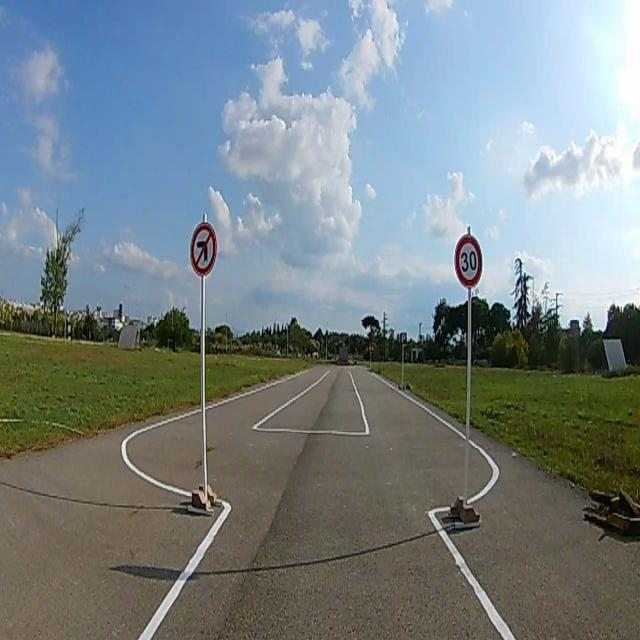30: (454, 236, 483, 286)
soladonulmez: (190, 224, 218, 276)
